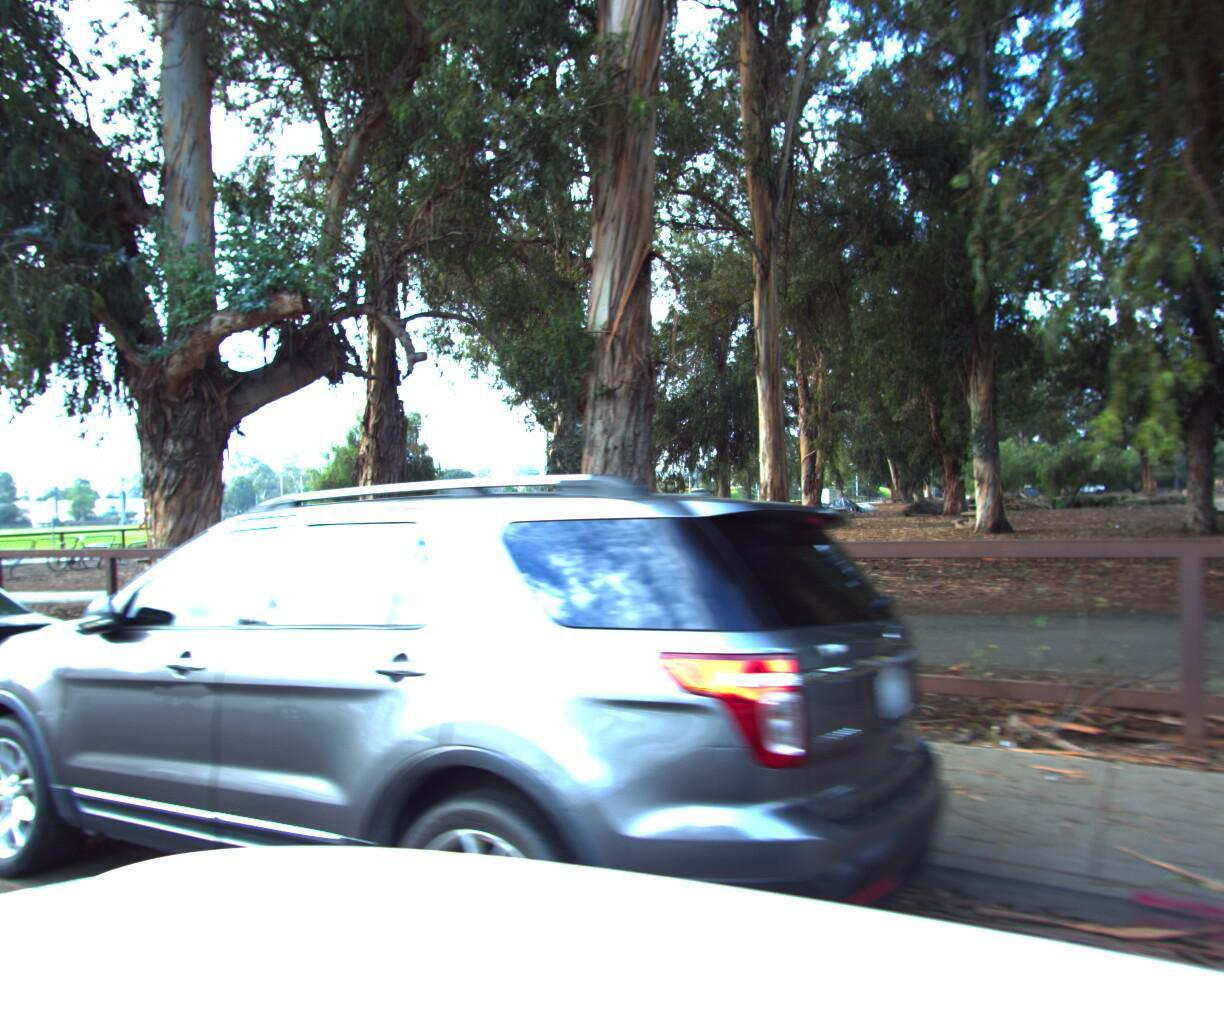car: (0, 442, 1001, 1024), (0, 550, 137, 815)
